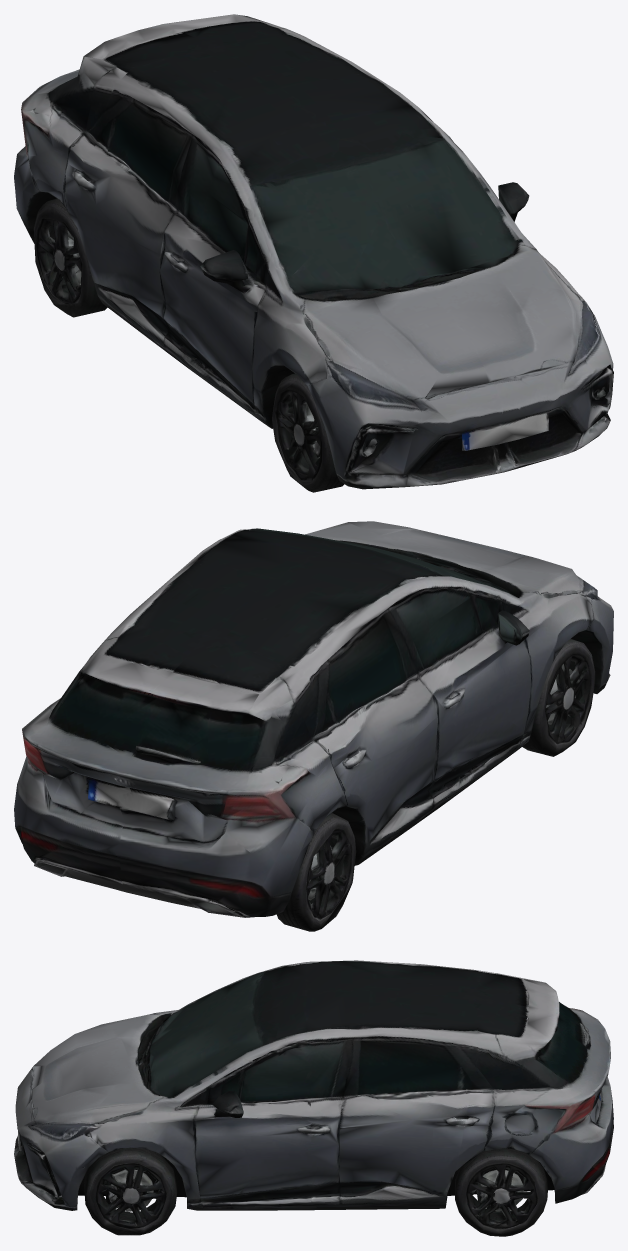
File: car_sedan_lod1.glb
3 renders of one model, top to bottom at view 1: azimuth 30°, elevation 25°; view 2: azimuth 150°, elevation 25°; view 3: azimuth 270°, elevation 25°, orthographic. The views are drawn at different scales.
Parts seen in each view (by area): view 1: tripo_node_d8eab706-6e00-4dd5-990c-505bb09c3191; view 2: tripo_node_d8eab706-6e00-4dd5-990c-505bb09c3191; view 3: tripo_node_d8eab706-6e00-4dd5-990c-505bb09c3191.
Boxes of the visible parts, x1,y1,x2,y2 form: tripo_node_d8eab706-6e00-4dd5-990c-505bb09c3191: (14,14,613,492); tripo_node_d8eab706-6e00-4dd5-990c-505bb09c3191: (14,521,613,931); tripo_node_d8eab706-6e00-4dd5-990c-505bb09c3191: (14,960,613,1236).
Bounding box in the file's own units: 1.97 × 1.5 × 4.12.
Materials: 1 (1 with a texture image).
